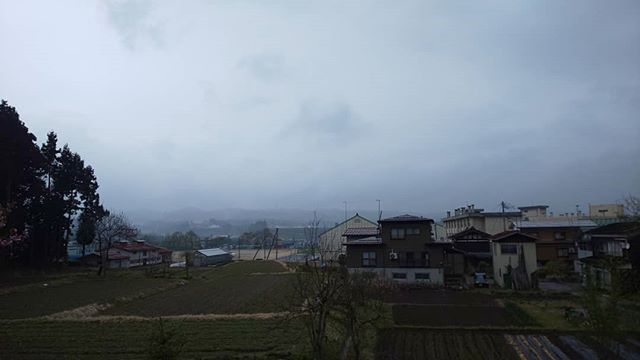building: (356, 216, 449, 284), (529, 216, 597, 284), (461, 229, 536, 284), (452, 207, 520, 240)
sky: (1, 1, 635, 205)
tree: (39, 133, 99, 258)
